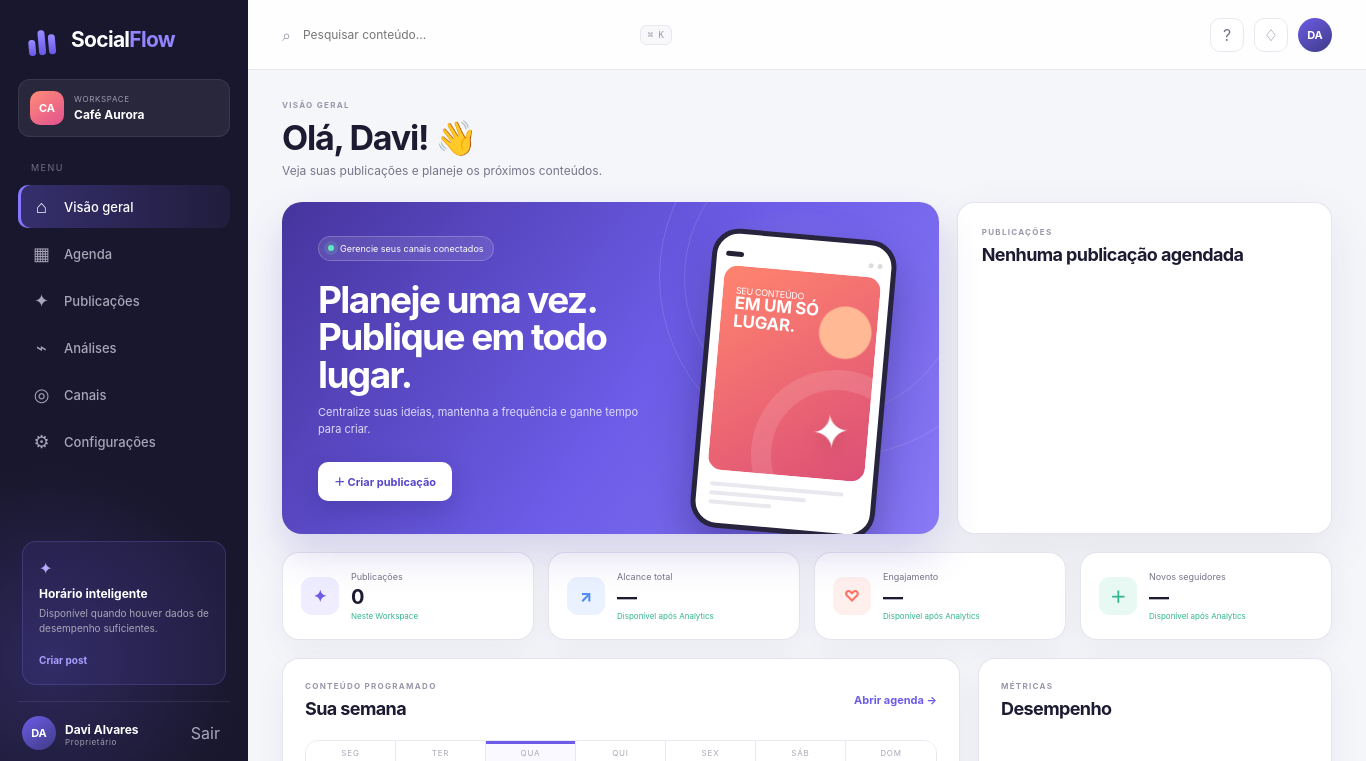
Test: SocialFlow › preserva o post e mostra feedback para todas publicadas
Expected: the heading "Nenhuma publicação agendada" is shown, x1=982 y1=244 x2=1244 y2=265
Click the button "＋ Criar publicação" at (385, 481), box x1=318 y1=462 x2=452 y2=501
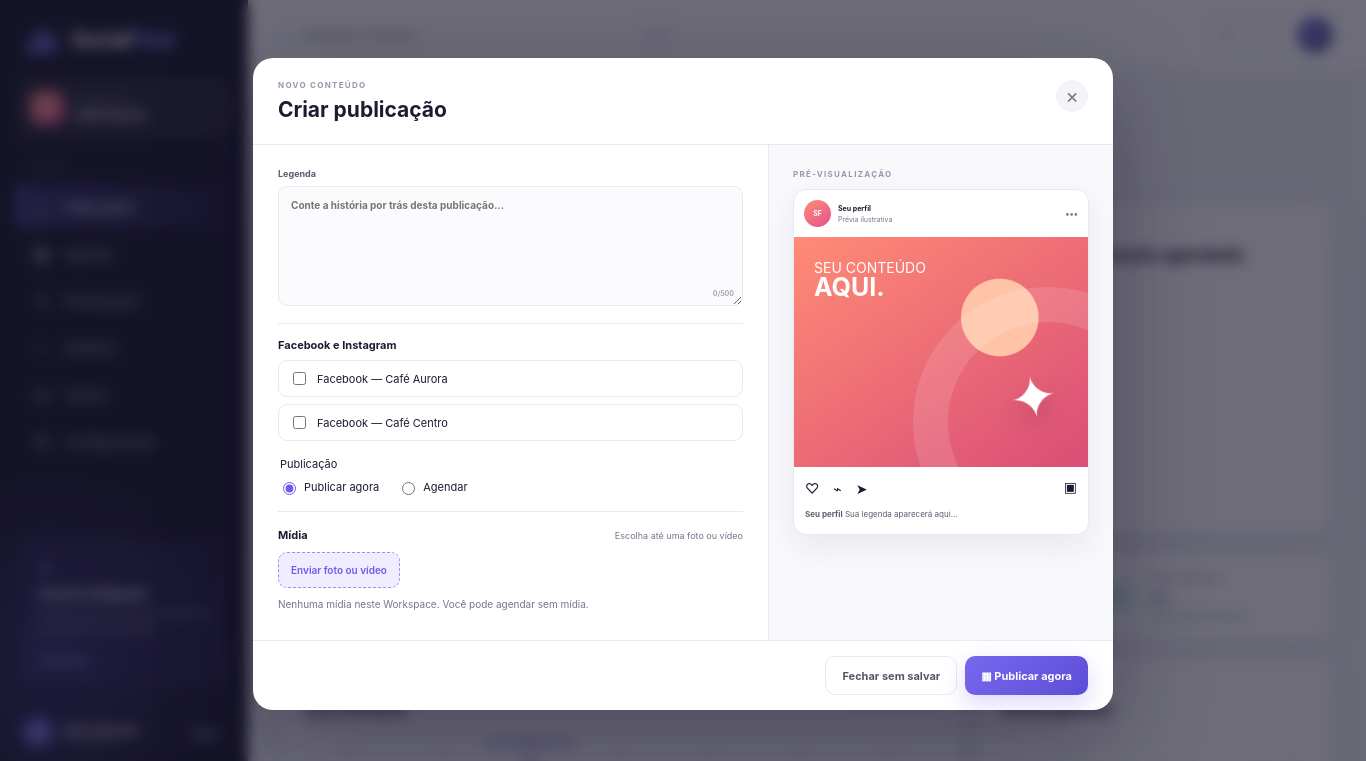
Click the checkbox labelled "Facebook — Café Aurora" at (300, 378), box x1=293 y1=372 x2=306 y2=385
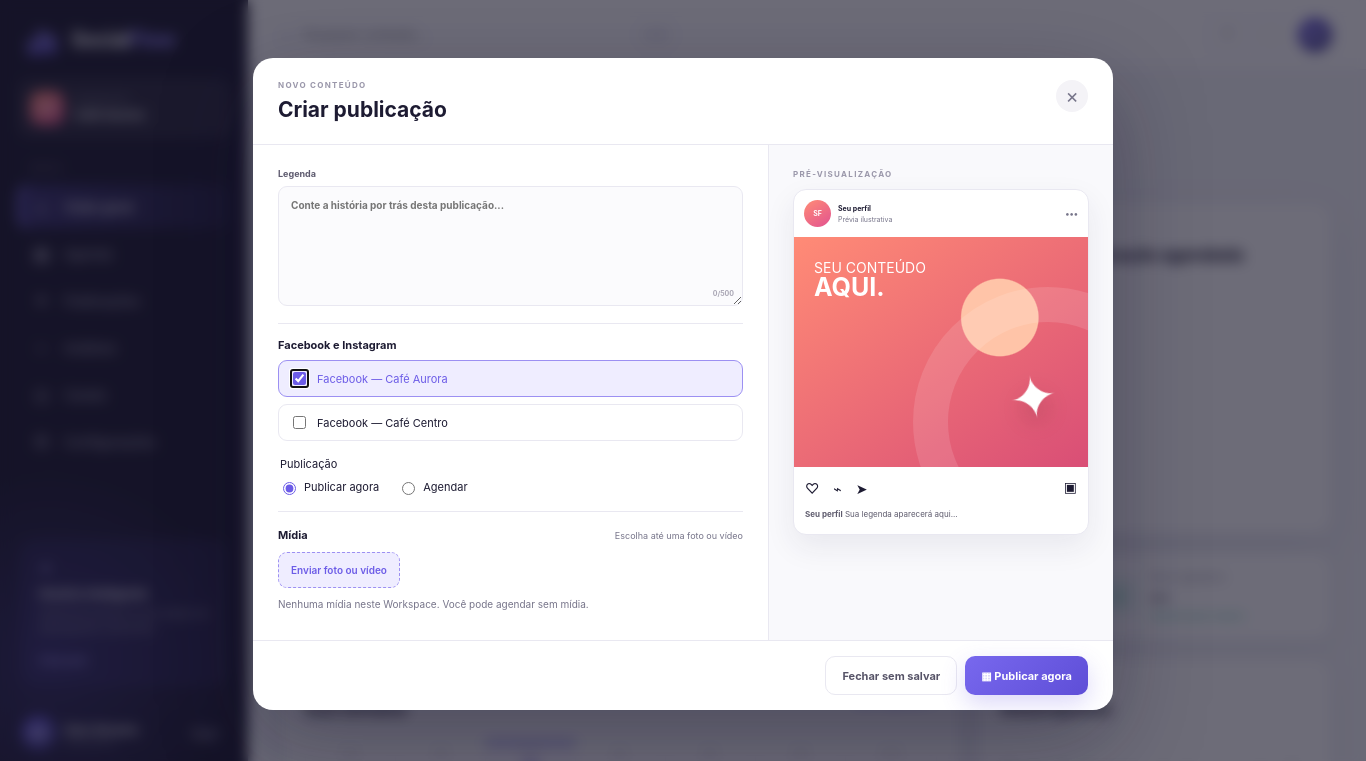
Click the checkbox labelled "Facebook — Café Centro" at (300, 422), box x1=293 y1=416 x2=306 y2=429
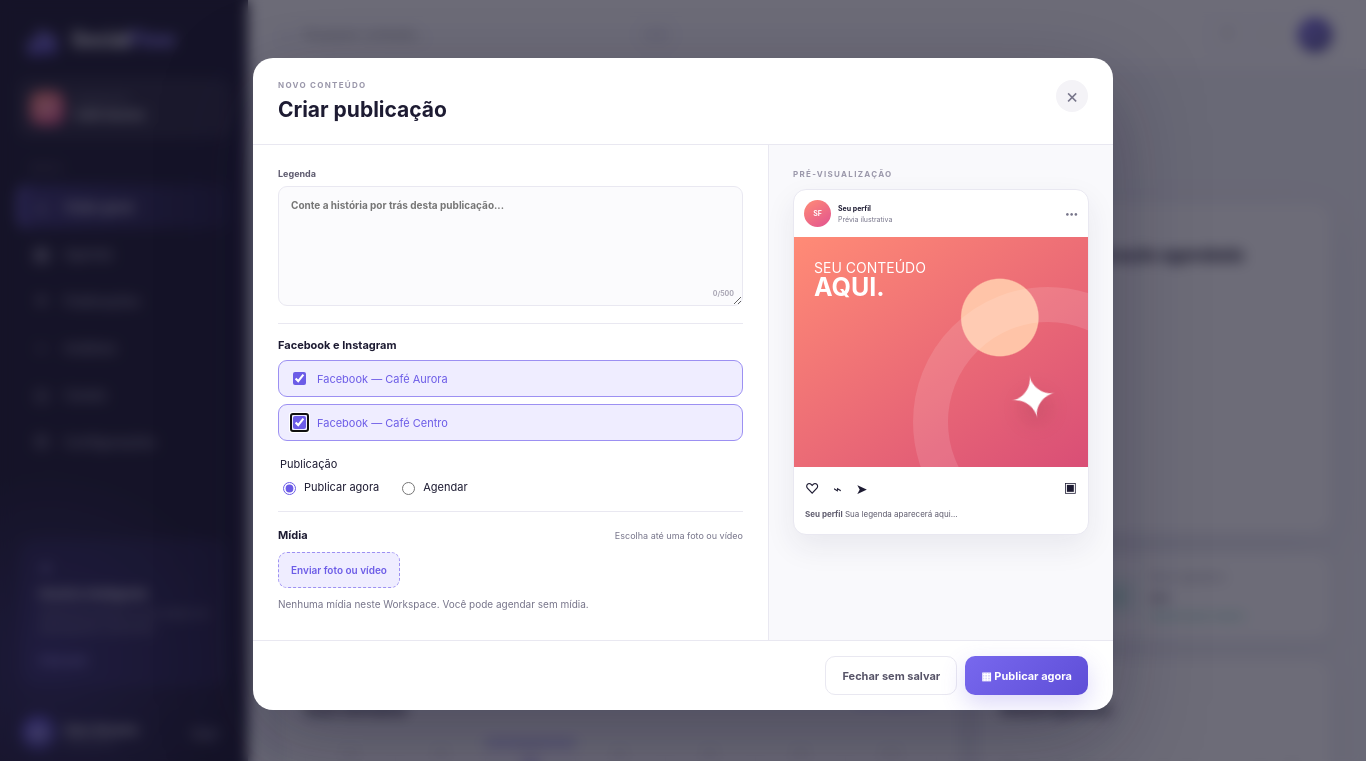
Type "Teste de resultado persistido." into the text box labelled "Legenda 0/500" at (510, 246), box x1=278 y1=186 x2=743 y2=306
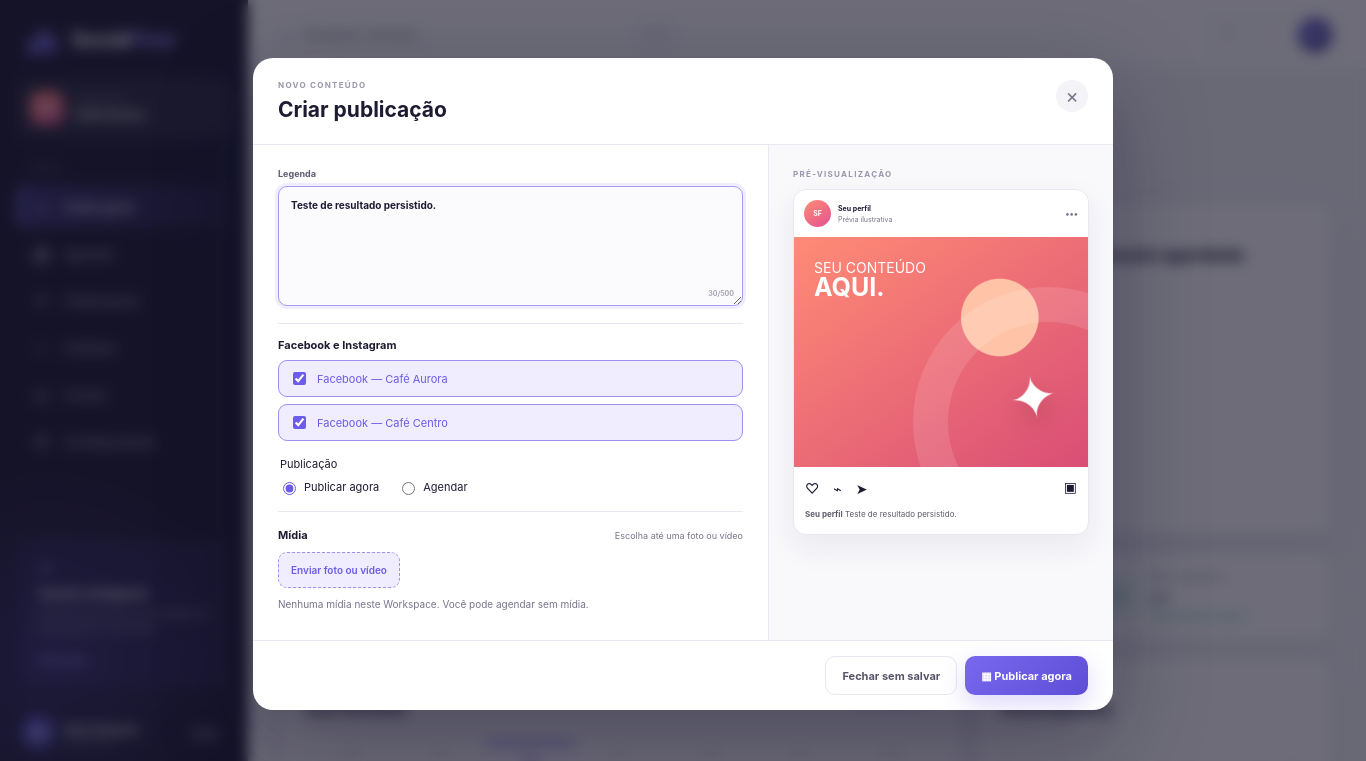
Click the button "▦ Publicar agora" at (1027, 676), box x1=965 y1=656 x2=1088 y2=695
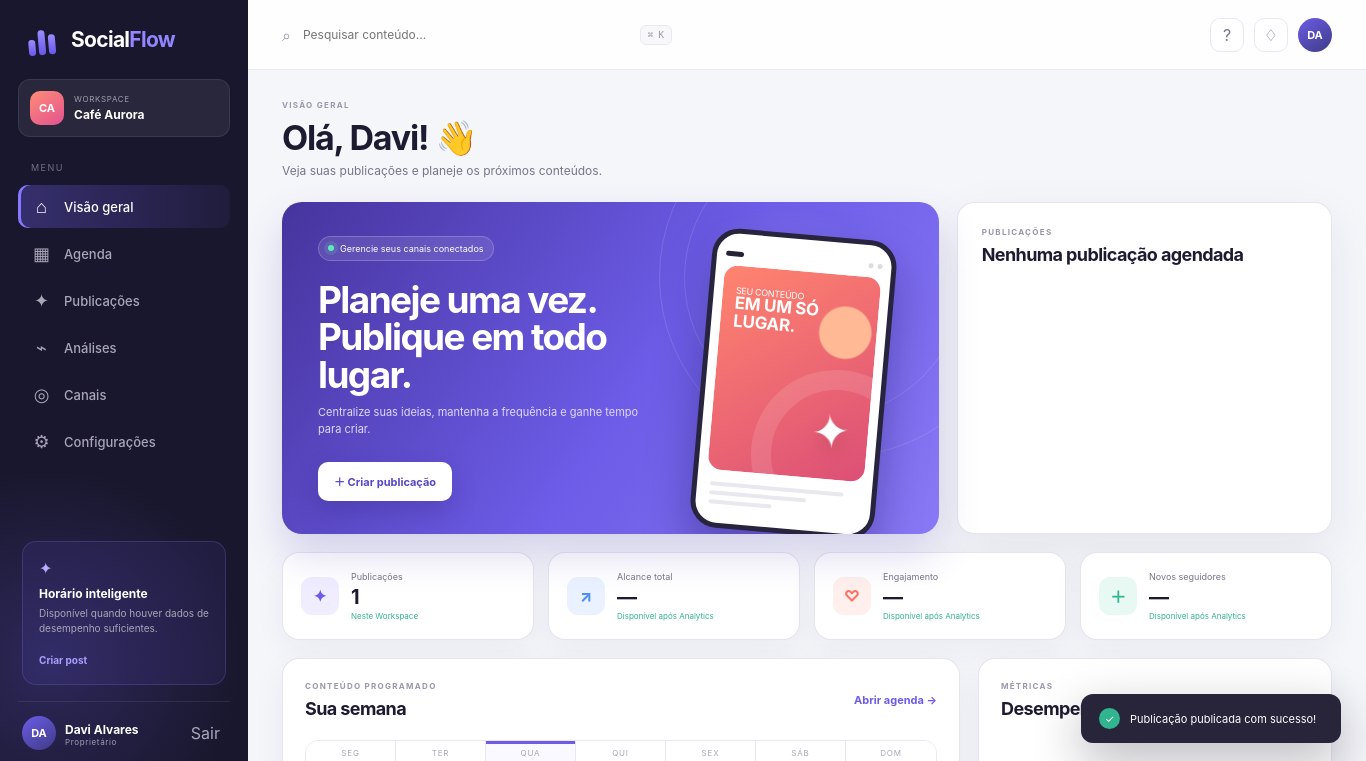
Expected: the heading "Criar publicação" is not shown
Click the button "✦ Publicações" at (124, 300), box x1=18 y1=279 x2=230 y2=322
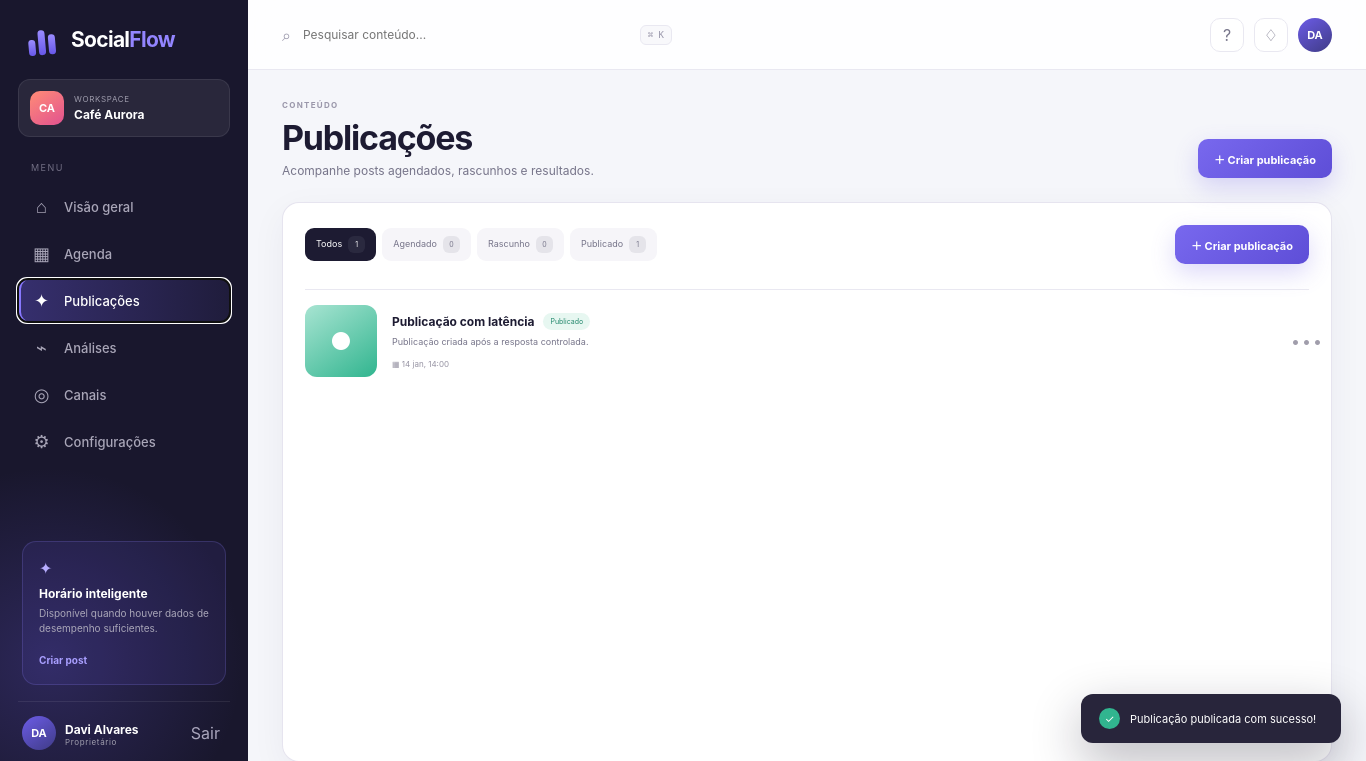
Now the text "Publicação com latência" is shown, box x1=392 y1=314 x2=534 y2=329
